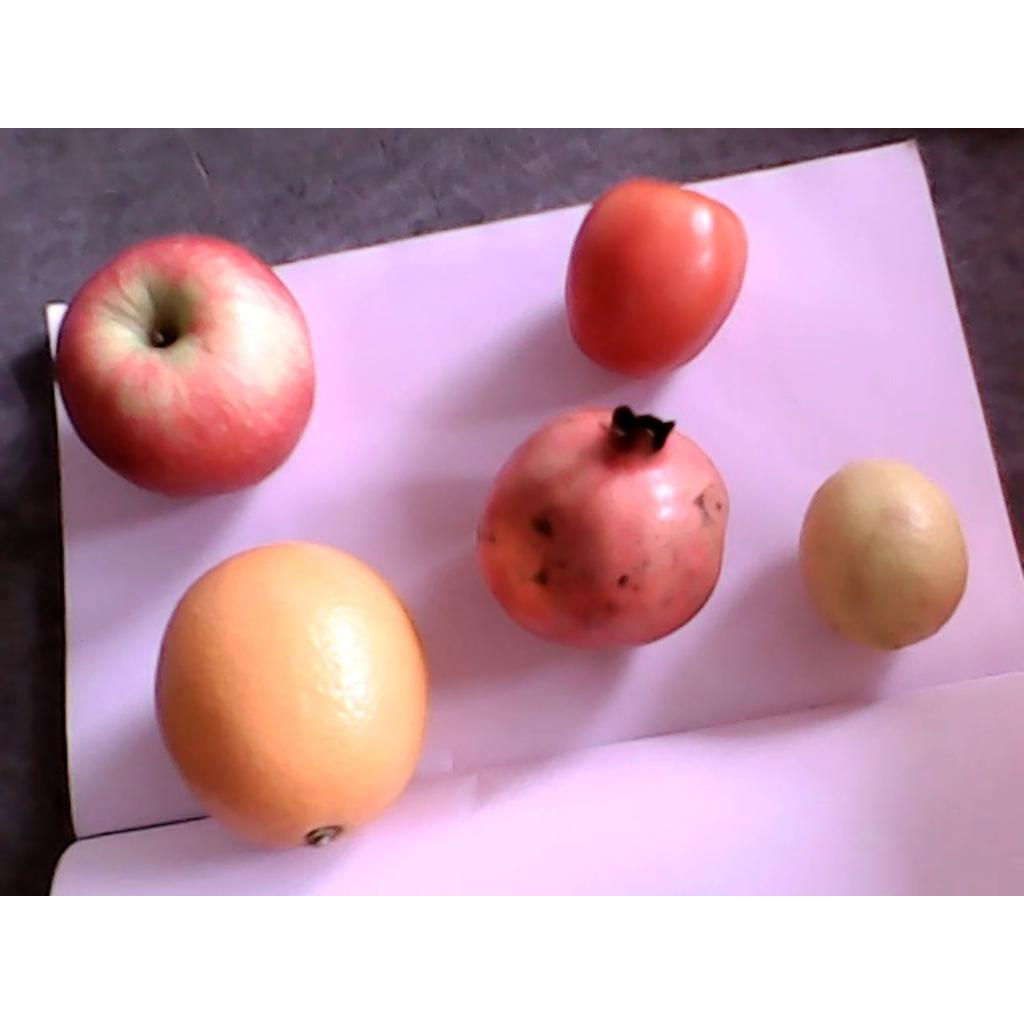apple: (57, 234, 317, 499)
lemon: (798, 457, 966, 652)
orange: (155, 544, 426, 848)
pomegranate: (477, 404, 730, 651)
tomato: (563, 180, 748, 377)
